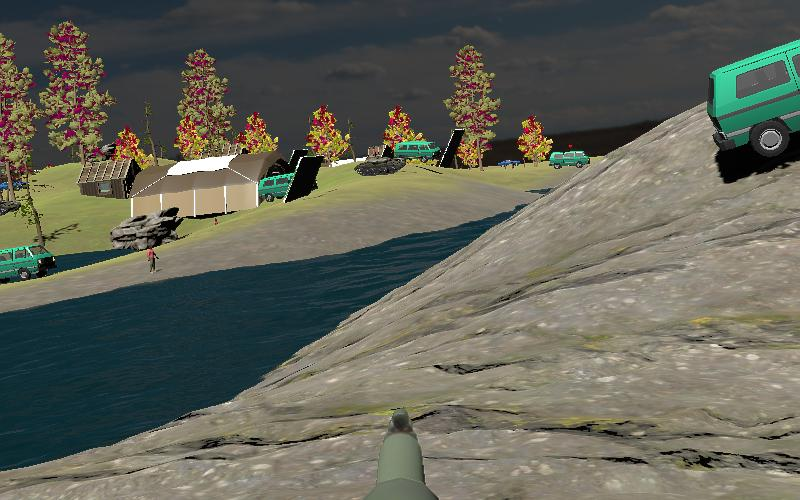House: (77, 157, 140, 198)
Human: (146, 245, 160, 275)
Tank: (352, 156, 410, 177), (0, 195, 23, 218)
car: (706, 33, 800, 165), (0, 244, 56, 288), (258, 171, 301, 205), (391, 140, 443, 165), (549, 150, 590, 171)
